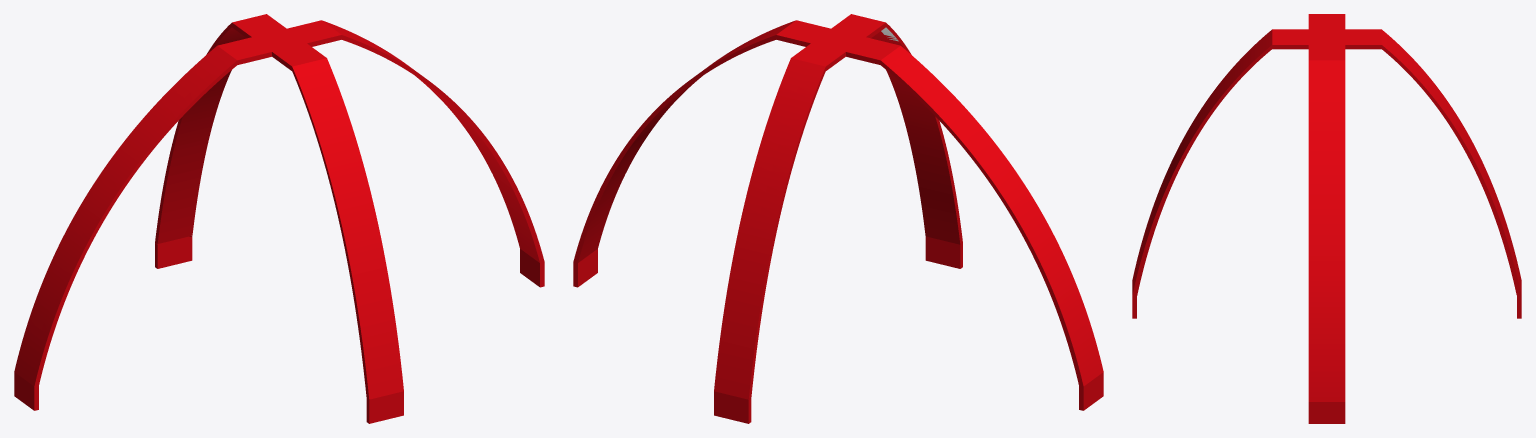
The model's file is top_part.dae.
The picture shows the model from 3 angles, left to right: view 1: azimuth 30°, elevation 25°; view 2: azimuth 150°, elevation 25°; view 3: azimuth 270°, elevation 25°; orthographic projection. The views are drawn at different scales.
Parts seen in each view (by area): view 1: top; view 2: top; view 3: top.
Part boxes in pixels (<box>): top: <box>14,14,544,423</box>; top: <box>573,14,1103,423</box>; top: <box>1132,14,1521,423</box>.
Size of the model in its own units: 220 by 160 by 124.
